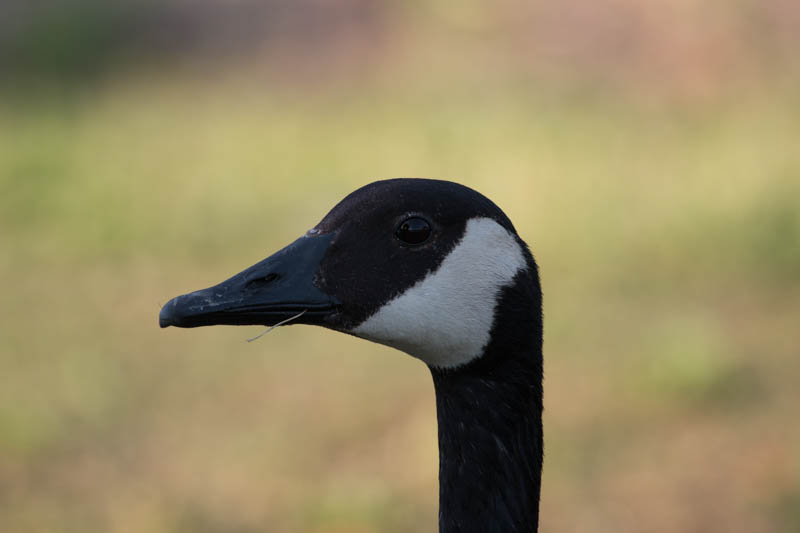goose-head: (158, 178, 543, 371)
